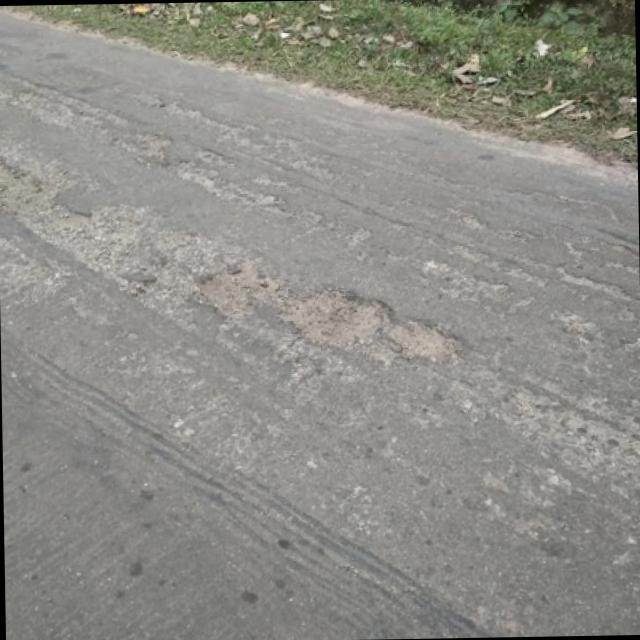Pothole: (198, 261, 459, 362)
